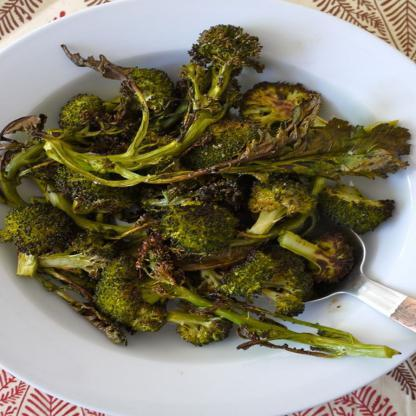broccoli: (0, 21, 410, 360)
